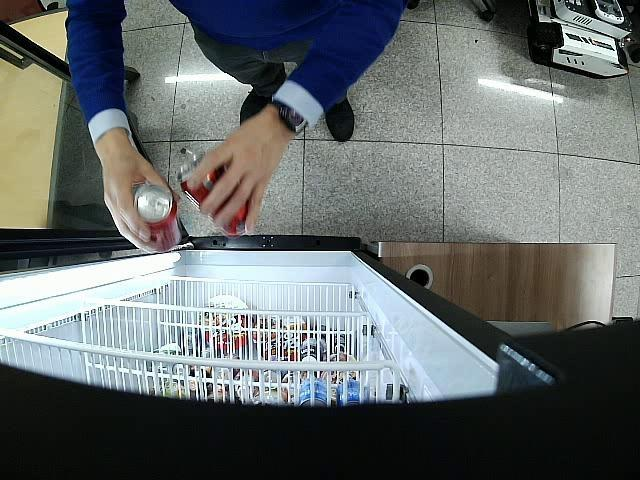11_cocaColaZero: (181, 153, 248, 236), (134, 184, 182, 254)
